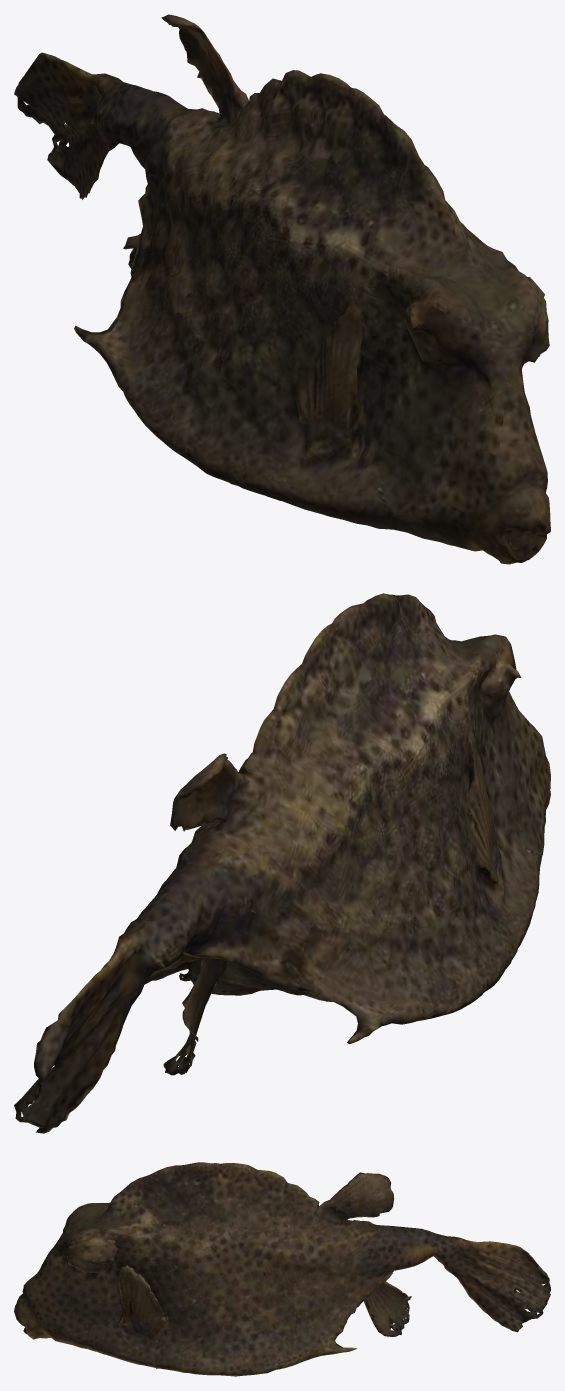
Rendered from smithsonian-lactophrys-bicaudalis.glb.
The picture shows the model from 3 angles, top to bottom: view 1: azimuth 30°, elevation 25°; view 2: azimuth 150°, elevation 25°; view 3: azimuth 270°, elevation 25°; orthographic projection. The views are drawn at different scales.
Bounding box in the file's own units: 78.9 × 98.96 × 250.
1 material, 1 textured.
